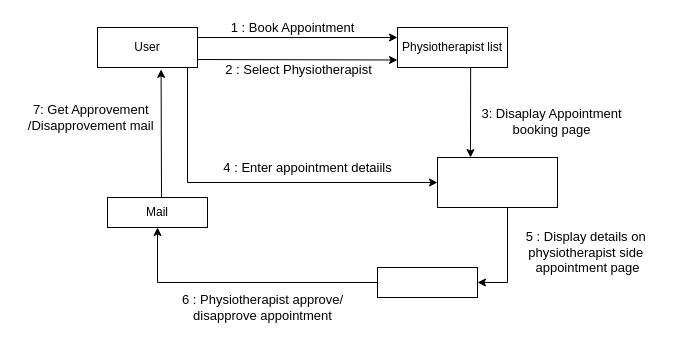
Some shapes in this 674 by 344 pixel diagram are drawn without their labels. The box of each missing label's shape, as (x1, y1, x2, y2) in pixels:
Appointment Booking page: (436, 156, 558, 208)
Appointment list: (376, 266, 478, 298)
